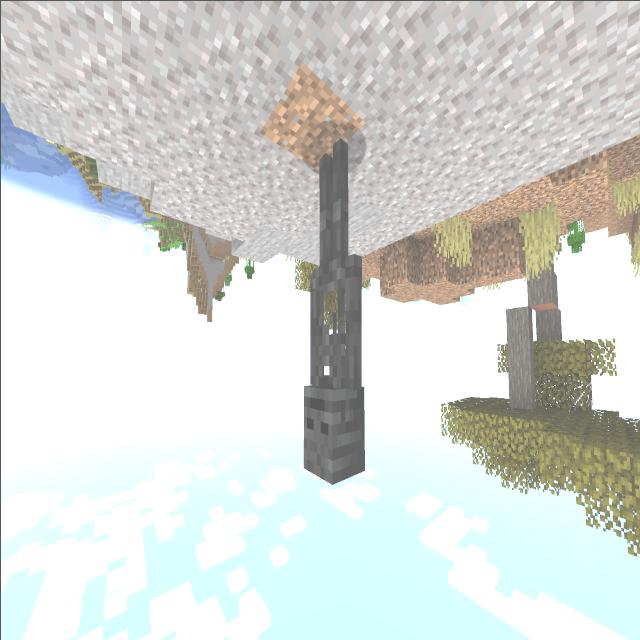Wither Skeleton: (290, 127, 374, 495)
